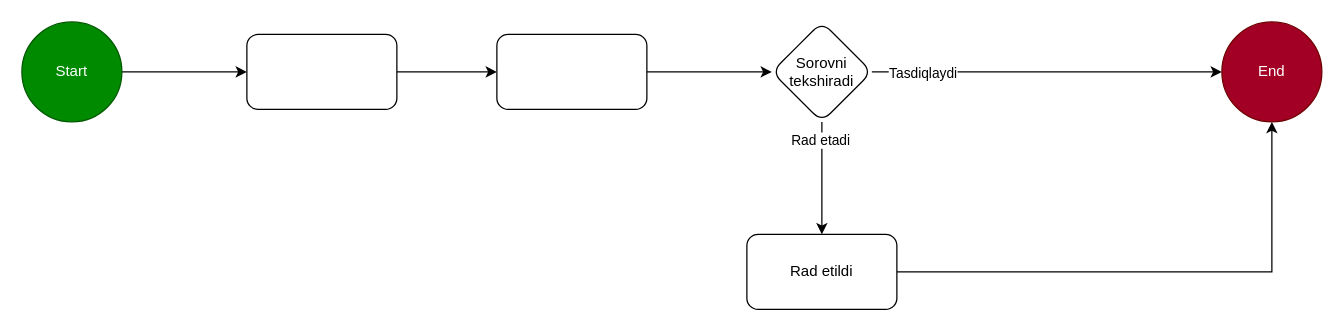
The diagram is 1344 pixels wide and 331 high, and some of its shapes have lost their labels. The centre of each missing label's shape, as x and y in pixels:
Ish vaqtni ro'yxatdan o'tkazish: the point at 321,71
Managerga yuborish: the point at 571,71
